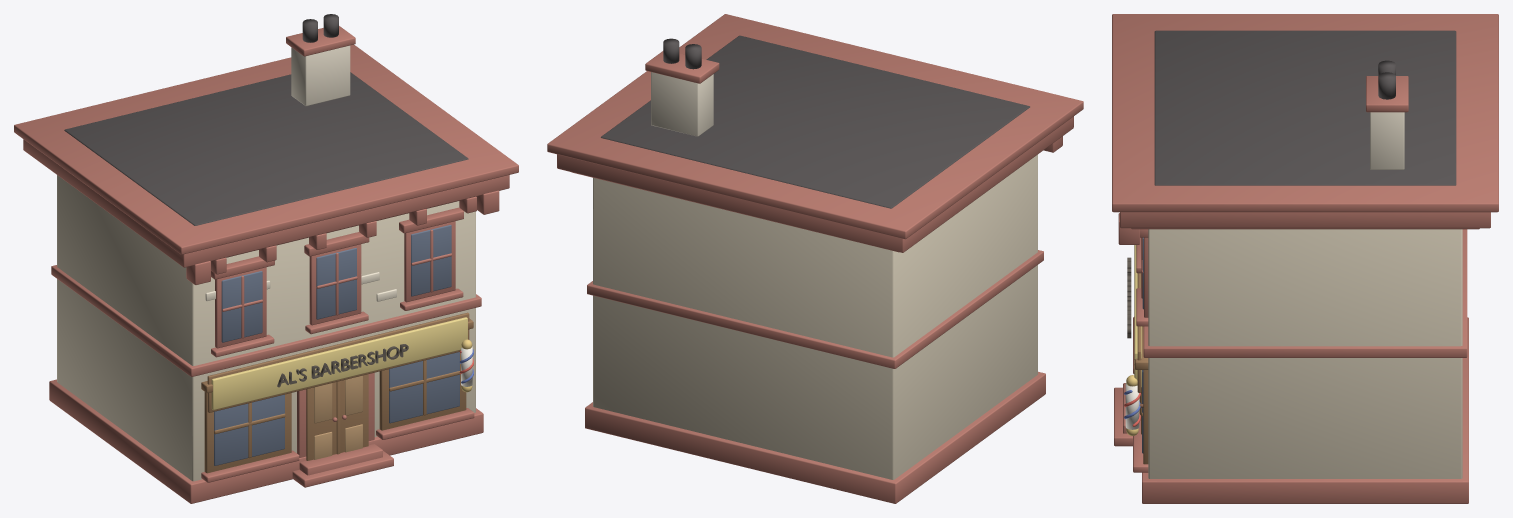
Rendered from edificio_06.glb.
The picture shows the model from 3 angles, left to right: view 1: azimuth 30°, elevation 25°; view 2: azimuth 150°, elevation 25°; view 3: azimuth 270°, elevation 25°; orthographic projection. The views are drawn at different scales.
Visible parts, largest first — view 1: corpo, tetto, cornicione_corona, zoccolo, insegna_h, cornicione_fascia, fascia_pt, vetrina_vetro_L, vetrina_vetro_R, comignolo_fusto, fin_p1_0_vetro, fin_p1_2_vetro (+24 smaller); view 2: corpo, tetto, cornicione_corona, zoccolo, cornicione_fascia, fascia_pt, comignolo_fusto, comignolo_cappello; view 3: corpo, tetto, cornicione_corona, zoccolo, cornicione_fascia, fascia_pt, comignolo_fusto, comignolo_cappello, cornicione_gola, gradino_basso, vetrina_cornice_R, palo_corpo (+3 smaller).
Boxes of the visible parts, box(x1,y1,x2,y2) form: corpo: box(57, 175, 475, 481); tetto: box(64, 72, 468, 225); cornicione_corona: box(14, 44, 518, 254); zoccolo: box(49, 379, 483, 503); insegna_h: box(211, 317, 467, 410); cornicione_fascia: box(23, 139, 509, 267); fascia_pt: box(51, 265, 481, 376); vetrina_vetro_L: box(214, 394, 284, 465); vetrina_vetro_R: box(389, 352, 459, 423); comignolo_fusto: box(291, 45, 350, 106); fin_p1_0_vetro: box(221, 271, 262, 342); fin_p1_2_vetro: box(411, 224, 451, 296); corpo: box(593, 154, 1037, 479); tetto: box(601, 35, 1029, 208); cornicione_corona: box(547, 14, 1083, 239); zoccolo: box(585, 371, 1045, 503); cornicione_fascia: box(557, 116, 1073, 252); fascia_pt: box(587, 250, 1043, 368); comignolo_fusto: box(651, 72, 713, 136); comignolo_cappello: box(645, 51, 719, 83); corpo: box(1148, 229, 1462, 478); tetto: box(1154, 30, 1456, 185); cornicione_corona: box(1112, 14, 1498, 212); zoccolo: box(1142, 317, 1468, 503); cornicione_fascia: box(1120, 212, 1490, 228); fascia_pt: box(1143, 229, 1467, 357); comignolo_fusto: box(1370, 112, 1404, 169); comignolo_cappello: box(1366, 76, 1408, 112); cornicione_gola: box(1131, 228, 1479, 229); gradino_basso: box(1114, 387, 1132, 446); vetrina_cornice_R: box(1143, 370, 1148, 464); palo_corpo: box(1125, 383, 1139, 429).
Bounding box in the file's own units: 7.15 × 7.06 × 6.15.
